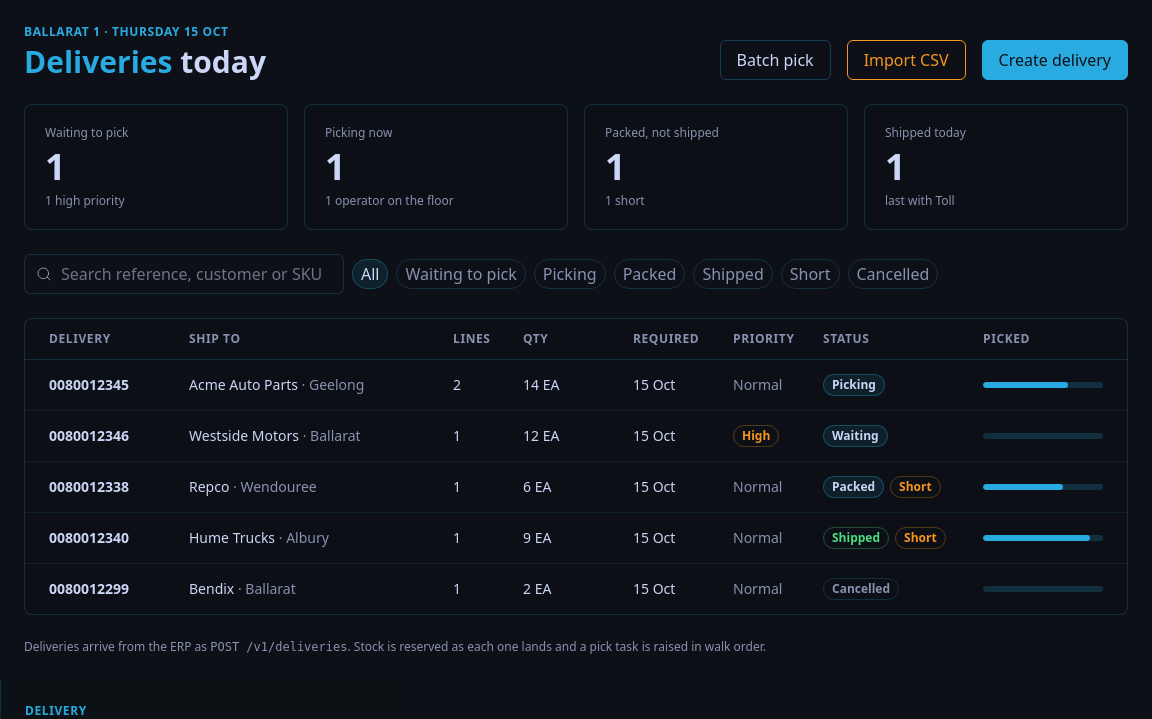
Test: Deliveries › narrows the table to short orders
expect the text "0080012345" is shown: met, box [49,375,129,394]
Click the button "Short": (810, 274) [781,259,840,289]
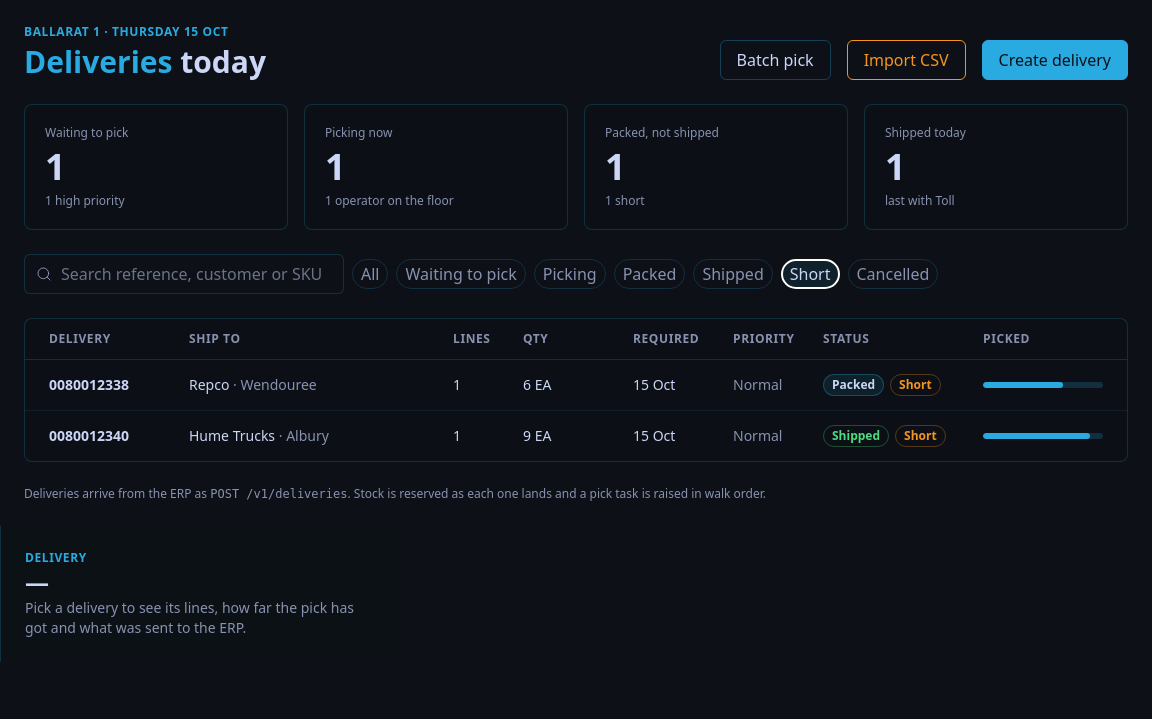
expect the text "0080012338" is shown: met, box [49,375,129,394]
expect the button "0080012345" is gone: met
expect the button "0080012299" is gone: met
